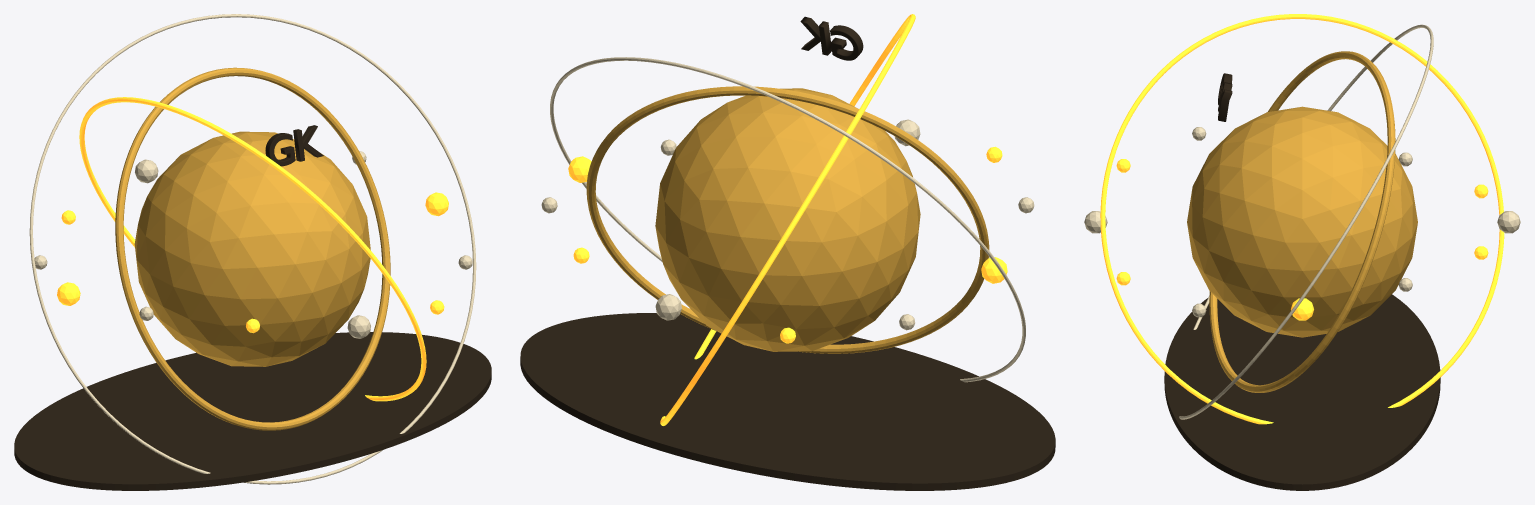
File: golden-orbital-core.glb
3 views of the same model, side by side, from view 1: azimuth 30°, elevation 25°; view 2: azimuth 150°, elevation 25°; view 3: azimuth 270°, elevation 25° (orthographic). The views are drawn at different scales.
Parts seen in each view (by area): view 1: Display Plinth, Faceted Gold Core, Orbit Ring 1, Orbit Ring 3, Orbit Ring 2, GK Monogram; view 2: Display Plinth, Faceted Gold Core, Orbit Ring 1, Orbit Ring 2, Orbit Ring 3, GK Monogram; view 3: Faceted Gold Core, Display Plinth, Orbit Ring 2, Orbit Ring 1, Orbit Ring 3, GK Monogram.
Part boxes in pixels (x1=…): Display Plinth: x1=14, y1=332, x2=491, y2=490; Faceted Gold Core: x1=134, y1=131, x2=370, y2=366; Orbit Ring 1: x1=115, y1=67, x2=390, y2=430; Orbit Ring 3: x1=29, y1=14, x2=476, y2=484; Orbit Ring 2: x1=79, y1=97, x2=426, y2=401; GK Monogram: x1=265, y1=125, x2=323, y2=166; Display Plinth: x1=520, y1=313, x2=1055, y2=490; Faceted Gold Core: x1=655, y1=88, x2=920, y2=351; Orbit Ring 1: x1=586, y1=86, x2=989, y2=353; Orbit Ring 2: x1=660, y1=14, x2=915, y2=425; Orbit Ring 3: x1=550, y1=57, x2=1025, y2=382; GK Monogram: x1=800, y1=16, x2=863, y2=60; Faceted Gold Core: x1=1187, y1=106, x2=1417, y2=337; Display Plinth: x1=1164, y1=294, x2=1440, y2=490; Orbit Ring 2: x1=1100, y1=14, x2=1504, y2=424; Orbit Ring 1: x1=1209, y1=51, x2=1395, y2=392; Orbit Ring 3: x1=1179, y1=24, x2=1433, y2=419; GK Monogram: x1=1218, y1=73, x2=1232, y2=121.
Size of the model in its own units: 5 by 3.78 by 4.27.
